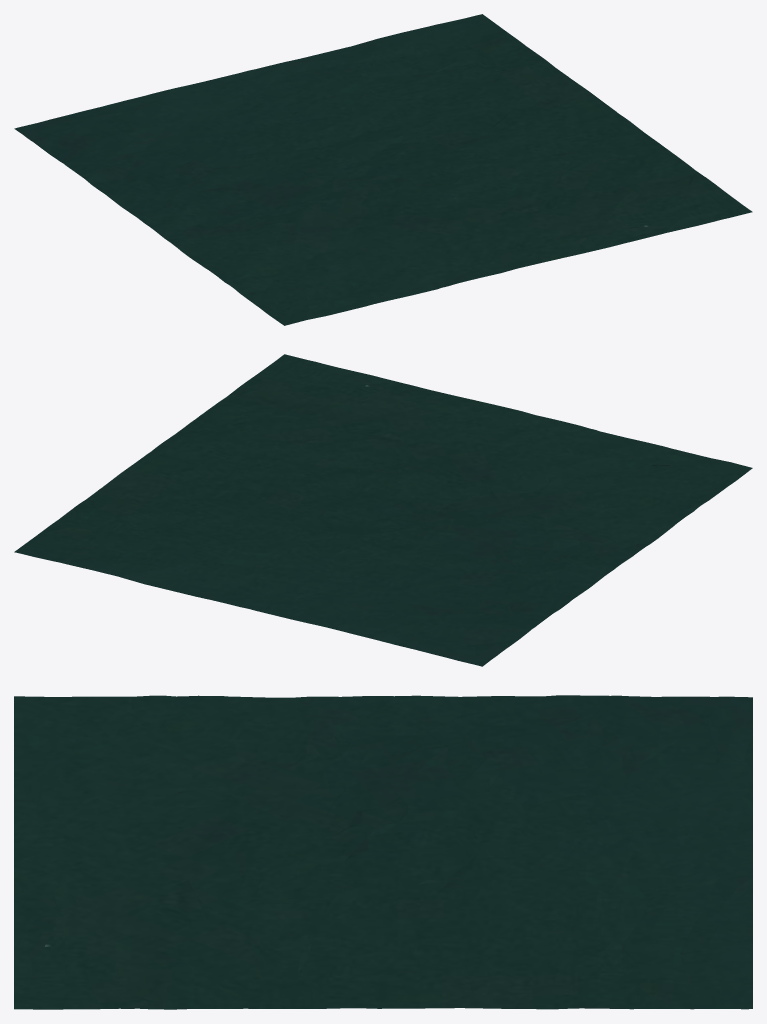
The picture shows the model from 3 angles, top to bottom: view 1: azimuth 30°, elevation 25°; view 2: azimuth 150°, elevation 25°; view 3: azimuth 270°, elevation 25°; orthographic projection. The views are drawn at different scales.
Bounding box in the file's own units: 209 × 1.08 × 209.
Materials: 2 (2 with a texture image).
